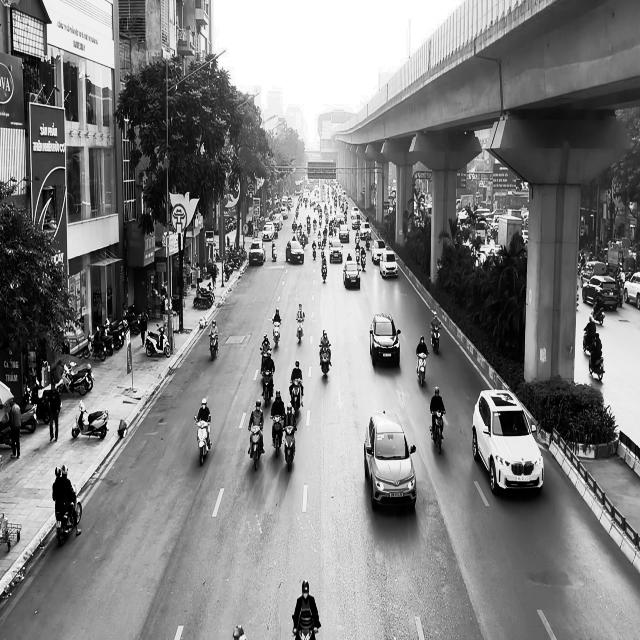car: (471, 389, 544, 495), (364, 410, 416, 510), (369, 312, 401, 367), (379, 249, 398, 277), (343, 260, 360, 288)
motorbike: (55, 484, 82, 546), (71, 399, 109, 440), (145, 323, 171, 358), (194, 415, 211, 466), (429, 410, 445, 454), (248, 423, 262, 471), (283, 424, 297, 472), (270, 413, 284, 458), (260, 369, 274, 407), (588, 350, 604, 381), (290, 379, 303, 417), (416, 351, 428, 386), (319, 344, 331, 377), (430, 323, 441, 354), (591, 303, 605, 325), (208, 333, 218, 360), (272, 319, 281, 348), (296, 314, 305, 343), (321, 261, 327, 282)
